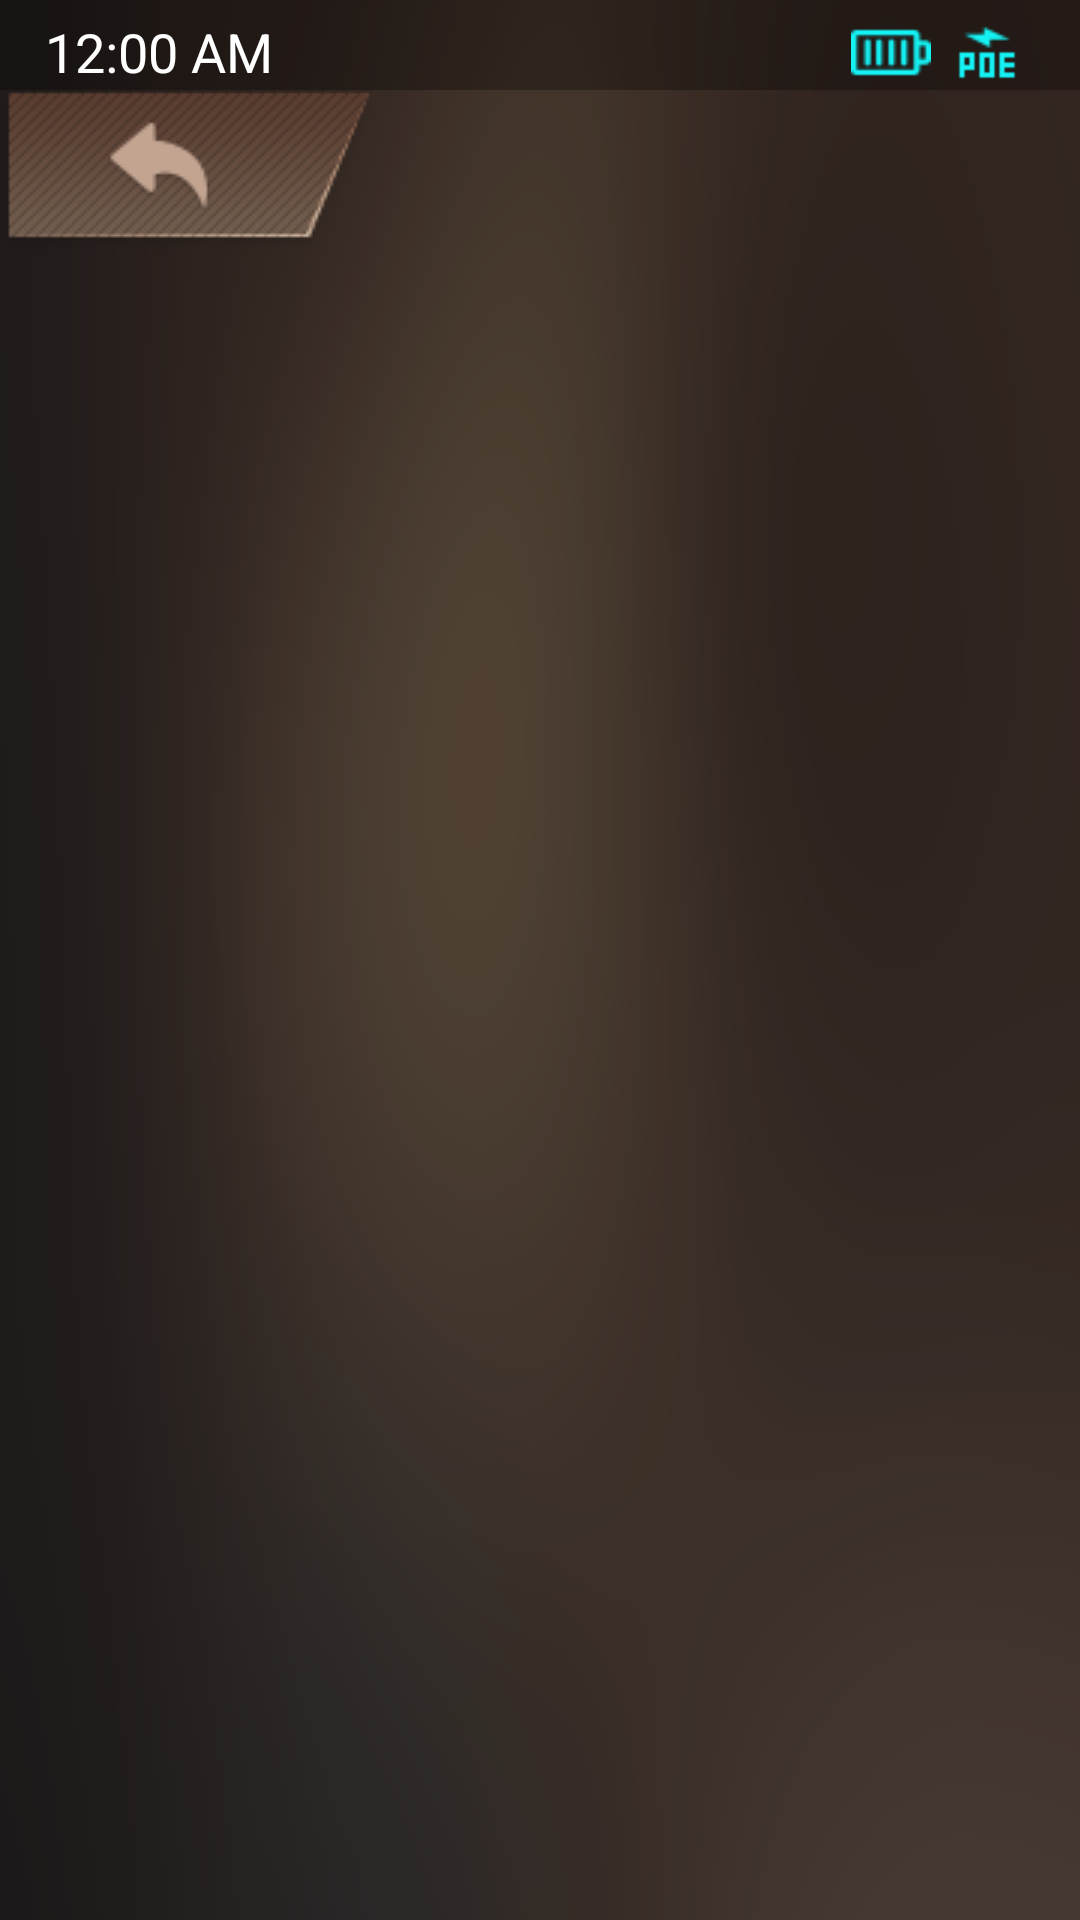

Locate icon controls on the screen. Image size 1080 × 1920, boxes as (left=x1, top=y1, right=x2, bottom=y2).
battery level list: (left=851, top=29, right=931, bottom=76)
